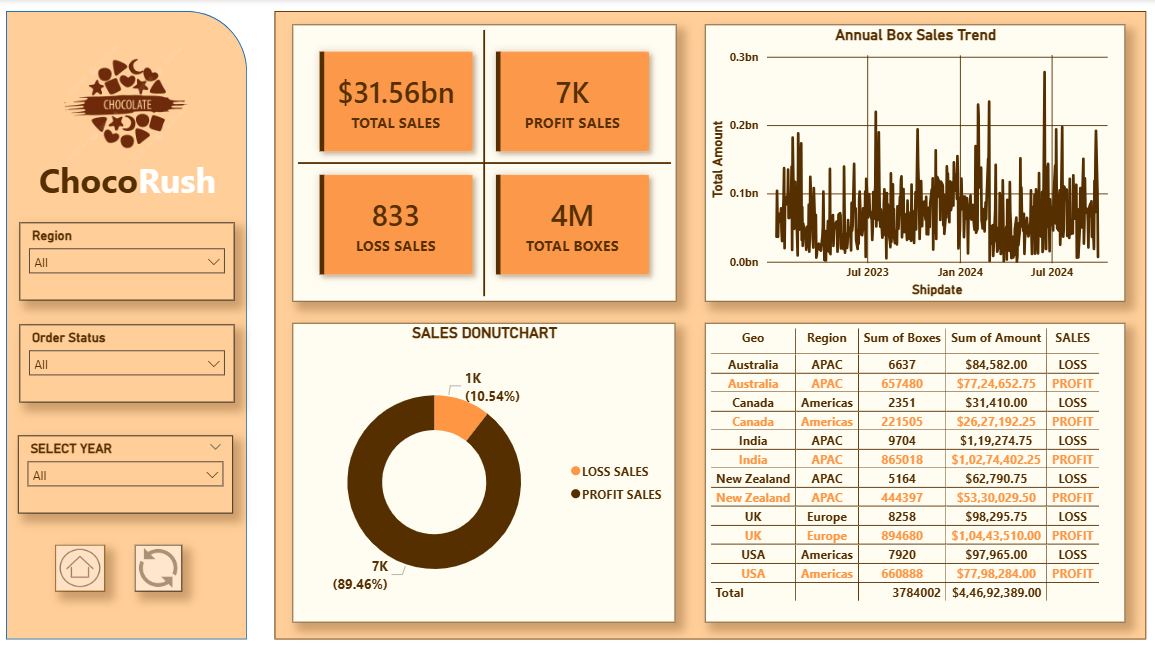

This screenshot's page, from the dashboard's own definition file:
{"tool":"powerbi","page":{"name":"Page 1","canvas":[1280,720],"ordinal":0},"visuals":[{"type":"shape","box":[10,12.4,266.2,694.1],"z":0},{"type":"shape","box":[306,12.4,962.8,694.1],"z":1000},{"type":"image","box":[64.7,43.5,156.7,144.3],"z":2000},{"type":"textbox","box":[41.1,169.2,252.5,78.4],"z":3000},{"type":"cardVisual","fields":{"Data":["Sum(shipments.Total_sales)","shipments.high_sales_count","shipments.low_sales_count","shipments.TOTAL_BOXES"]},"box":[325.9,27.4,424.2,306],"z":4000},{"type":"donutChart","title":"SALES DONUTCHART","fields":{"Y":["shipments.low_sales_count","shipments.high_sales_count"]},"box":[325.9,358.3,422.9,330.9],"z":5000},{"type":"slicer","fields":{"Values":["locations.Region"]},"box":[24.9,247.5,237.6,85.8],"z":6000},{"type":"slicer","fields":{"Values":["shipments.Order_Status"]},"box":[24.9,359.5,237.6,85.8],"z":7000},{"type":"actionButton","box":[64.7,603.3,54.7,51],"z":8000},{"type":"actionButton","box":[153,603.3,52.2,51],"z":9000},{"type":"slicer","fields":{"Values":["shipments.YEAR_1"]},"box":[23.6,481.4,237.6,85.8],"z":10000},{"type":"lineChart","title":"Annual Box Sales Trend","fields":{"Y":["shipments.total_sales_amount"],"Category":["shipments.Shipdate"]},"box":[782.5,27.4,464,306],"z":11000},{"type":"tableEx","fields":{"Values":["locations.Geo","locations.Region","Sum(shipments.Boxes)","Sum(shipments.Amount)","shipments.HIGH_SALES"]},"box":[782.5,358.3,464,330.9],"z":12000}]}

Visuals, with their boxes in screenshot pixels (x1, y1, x2, y2), scaled from the page's 1280x720 canvas onto the 1155x646 screenshot:
shape: locate(9, 11, 249, 634)
shape: locate(276, 11, 1145, 634)
image: locate(58, 39, 200, 168)
textbox: locate(37, 152, 265, 222)
cardVisual - Sum(shipments.Total_sales) x shipments.high_sales_count: locate(294, 25, 677, 299)
"SALES DONUTCHART" donutChart: locate(294, 321, 676, 618)
slicer - locations.Region: locate(22, 222, 237, 299)
slicer - shipments.Order_Status: locate(22, 323, 237, 400)
actionButton: locate(58, 541, 108, 587)
actionButton: locate(138, 541, 185, 587)
slicer - shipments.YEAR_1: locate(21, 432, 236, 509)
"Annual Box Sales Trend" lineChart: locate(706, 25, 1125, 299)
tableEx - locations.Geo x locations.Region: locate(706, 321, 1125, 618)
